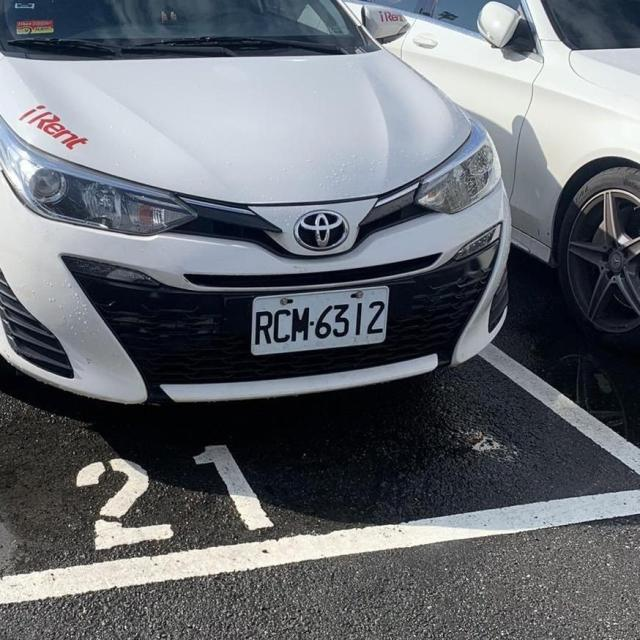W: (252, 285, 390, 353)
